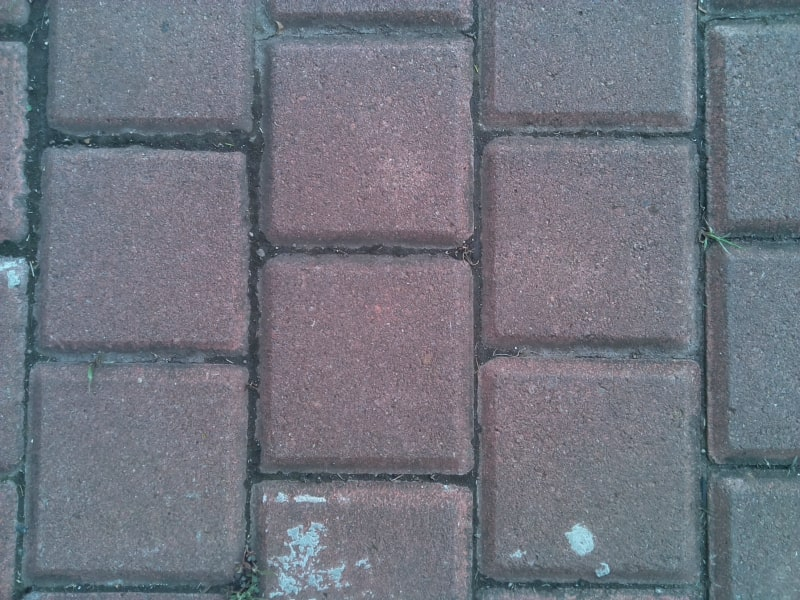Weed: (225, 544, 266, 600), (694, 215, 741, 263)
